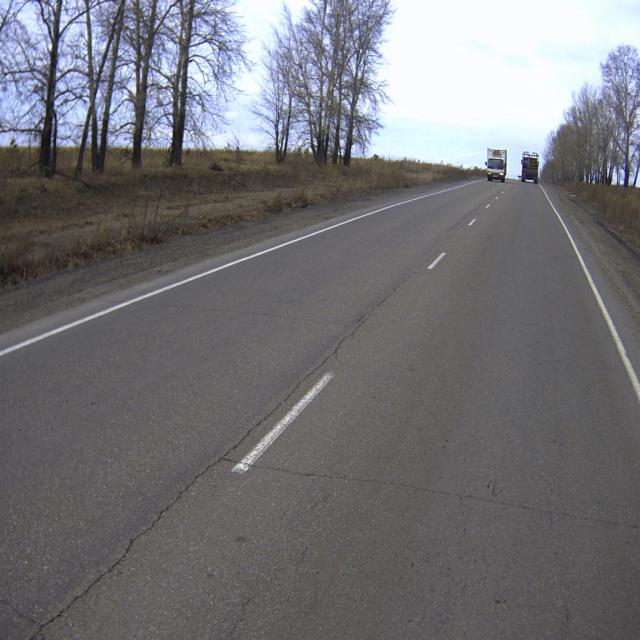road: (0, 177, 640, 639)
